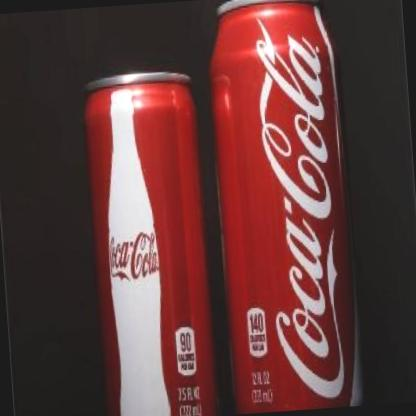alumunium_can: (202, 0, 367, 414), (79, 67, 221, 416)
